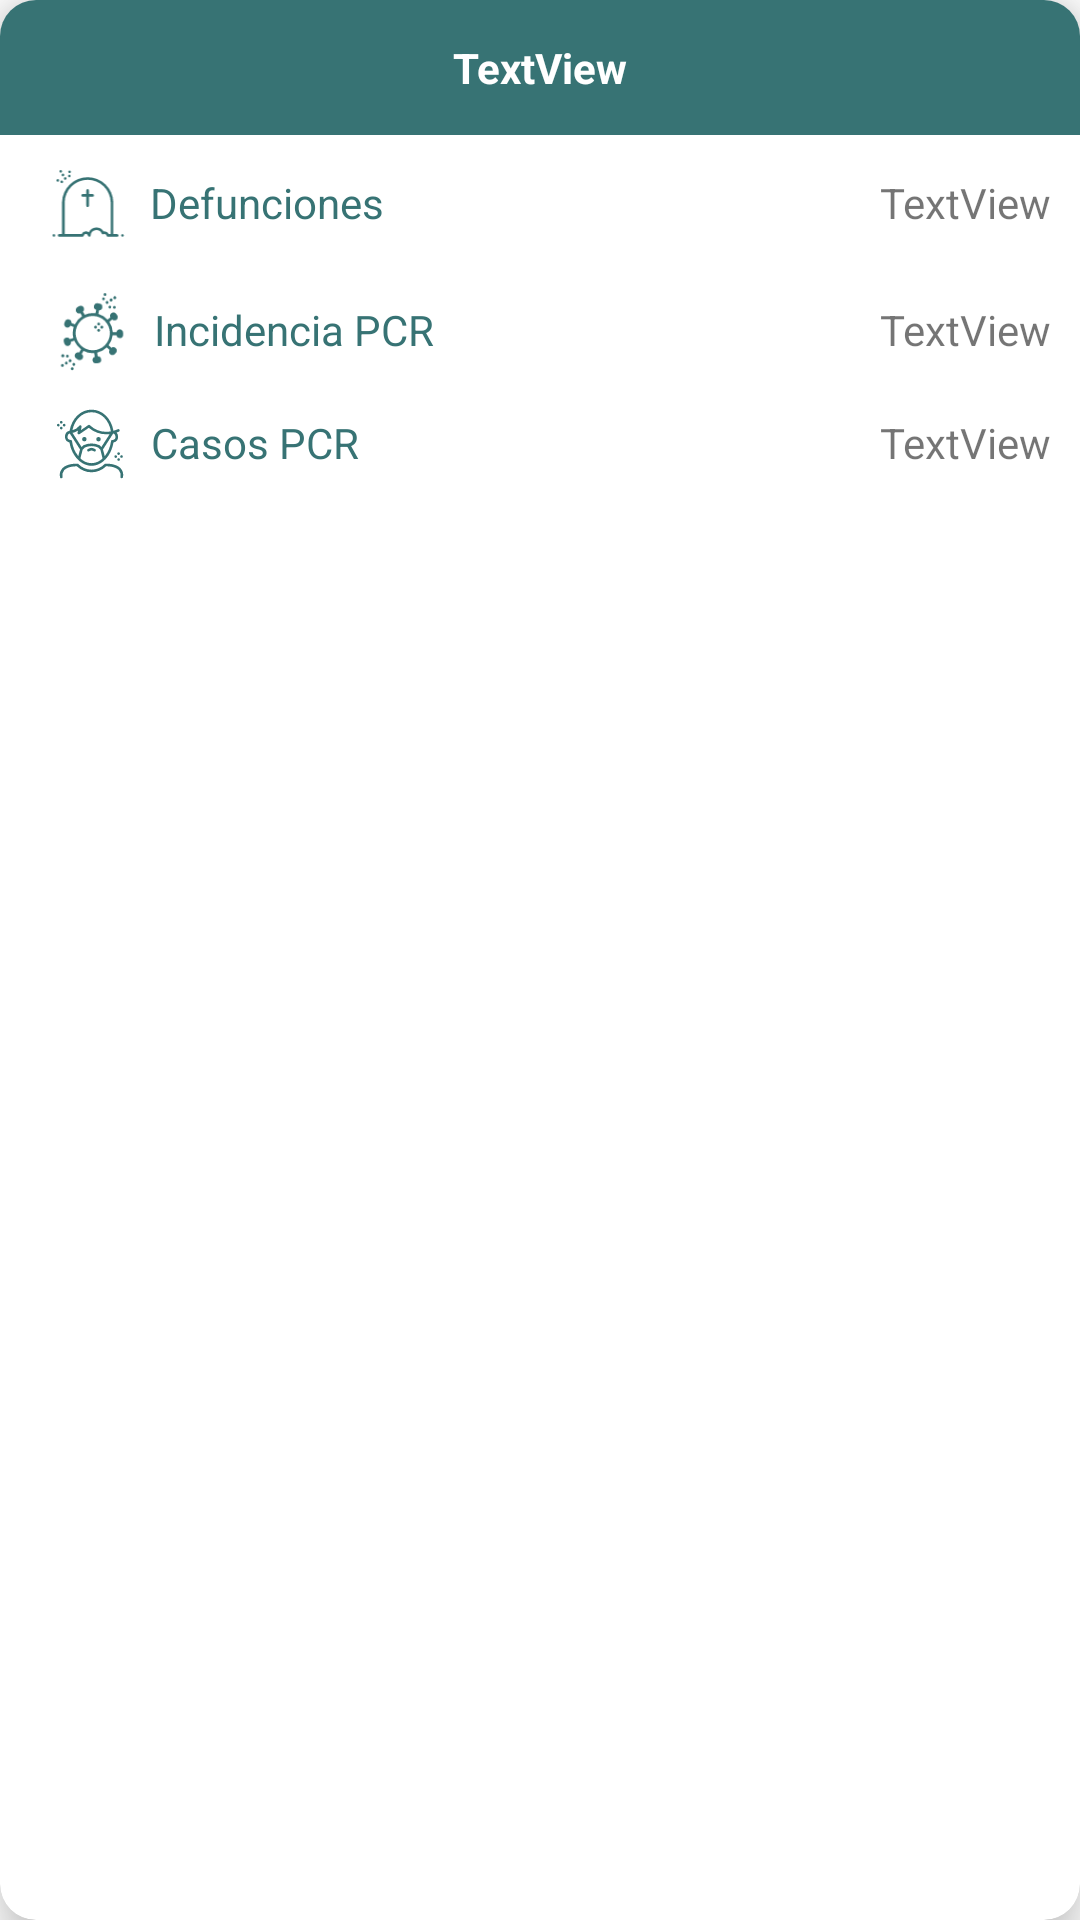

Icons on this 1080x1920 Android screen, each with the point to tap as [x,y]:
died: [88,203]
